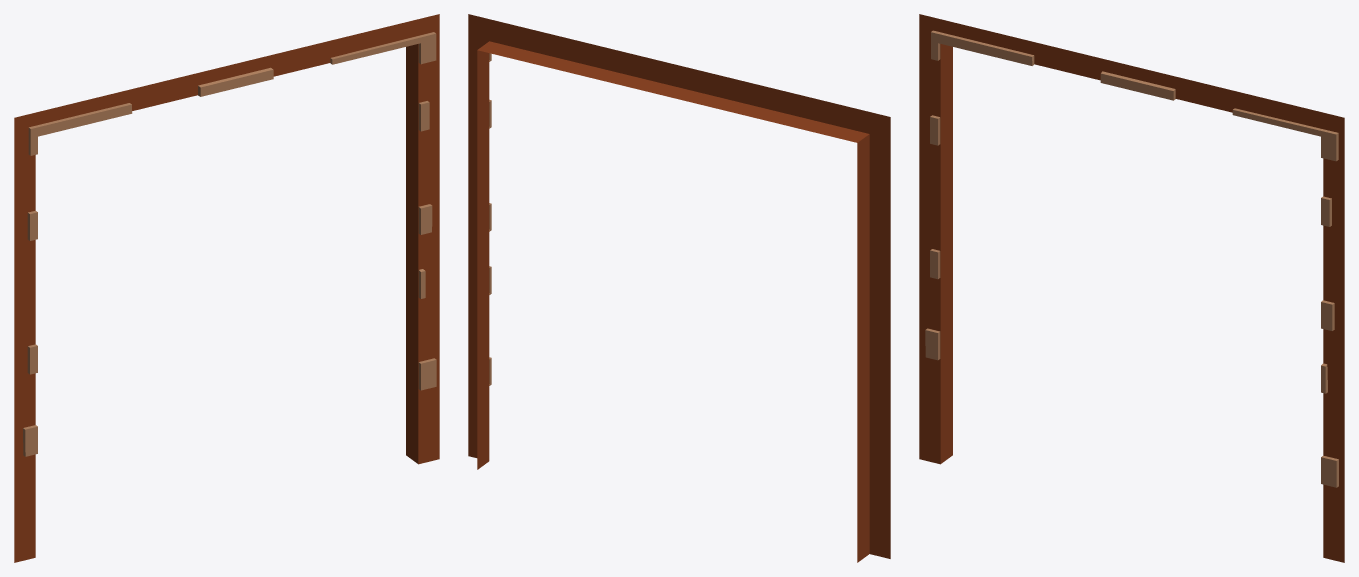
File: Ext-BrickV2GarageFrame.fbx
3 renders of one model, left to right at view 1: azimuth 30°, elevation 25°; view 2: azimuth 150°, elevation 25°; view 3: azimuth 330°, elevation 25°, orthographic.
Parts seen in each view (by area): view 1: Ext-BrickV2GarageFrame; view 2: Ext-BrickV2GarageFrame; view 3: Ext-BrickV2GarageFrame.
Boxes of the visible parts, x1,y1,x2,y2 form: Ext-BrickV2GarageFrame: (14,14,439,562); Ext-BrickV2GarageFrame: (468,14,890,562); Ext-BrickV2GarageFrame: (919,14,1344,562).
Size of the model in its own units: 200 by 200 by 12.
